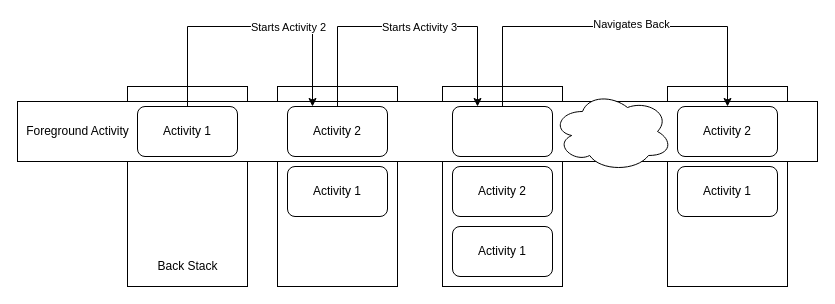
The diagram is 835 pixels wide and 304 high, and some of its shapes have lost their labels. Each missing label, with the centre of its shape:
Activity 3: point (502, 131)
Activity 3 is destroyed: point (612, 131)
